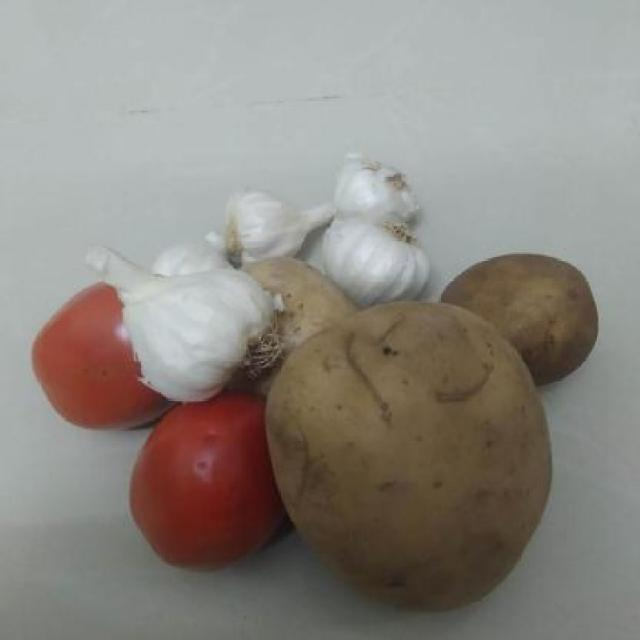Garlic: (85, 240, 292, 406), (330, 214, 432, 300), (214, 191, 320, 266), (328, 158, 436, 222)
Potato: (269, 296, 566, 624), (442, 250, 604, 378)
Tomato: (125, 386, 288, 574), (26, 288, 166, 430)
